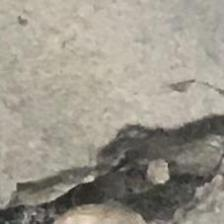Crack: (18, 112, 224, 223)
